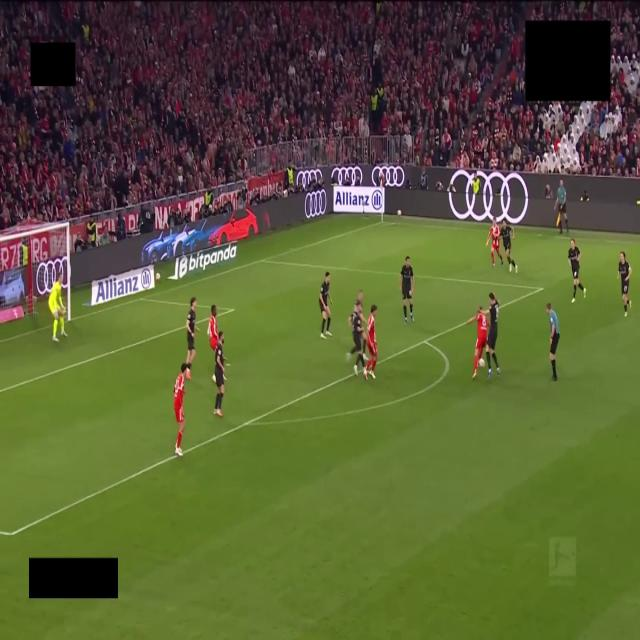ball: (478, 358, 485, 366)
player: (467, 306, 487, 378), (485, 293, 500, 378), (48, 274, 66, 342), (348, 304, 365, 375), (174, 363, 187, 455), (568, 239, 586, 303), (186, 297, 198, 379), (364, 305, 377, 379), (400, 256, 414, 324), (214, 332, 225, 417), (500, 220, 517, 273), (618, 252, 631, 317), (486, 218, 503, 267), (319, 272, 331, 338), (207, 305, 218, 352), (354, 290, 363, 312)
referee: (546, 303, 559, 381)
